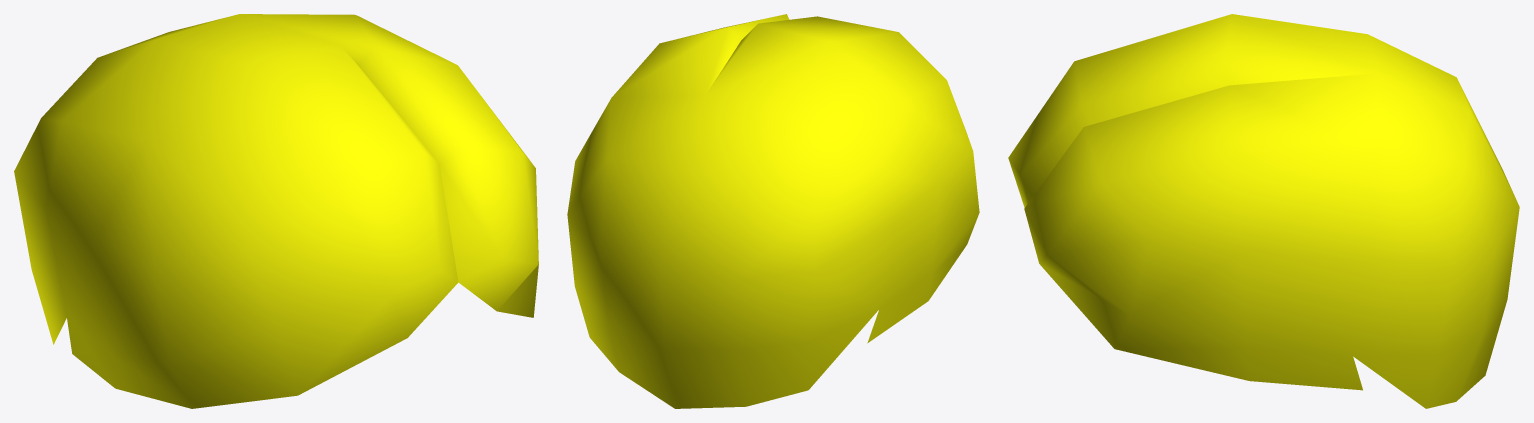
File: hair_erwin.glb
3 renders of one model, left to right at view 1: azimuth 30°, elevation 25°; view 2: azimuth 150°, elevation 25°; view 3: azimuth 270°, elevation 25°, orthographic. The views are drawn at different scales.
Parts seen in each view (by area): view 1: hair_erwin; view 2: hair_erwin; view 3: hair_erwin.
Boxes of the visible parts, bbox=[...] form: hair_erwin: bbox=[14, 14, 538, 408]; hair_erwin: bbox=[567, 14, 979, 408]; hair_erwin: bbox=[1008, 14, 1519, 408].
Size of the model in its own units: 0.2048 by 0.186 by 0.2559.
1 material, 1 textured.
